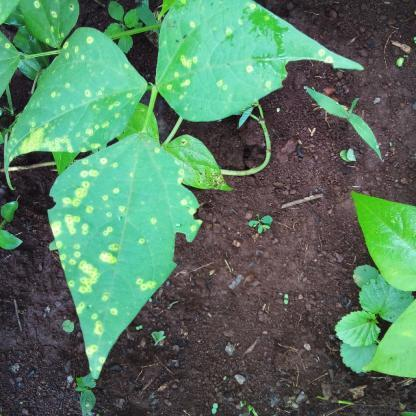Beans_Rust: (45, 135, 200, 381), (158, 5, 338, 118), (8, 25, 140, 177), (21, 0, 90, 48)
